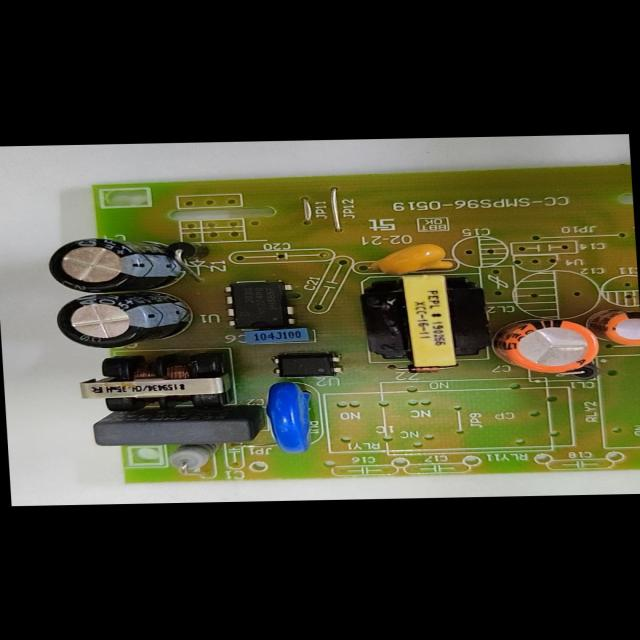Cap1: (485, 314, 602, 378)
Cap2: (598, 309, 640, 350)
Cap3: (46, 288, 208, 352)
Cap4: (38, 233, 206, 293)
MOSFET: (219, 275, 299, 331)
Mov: (260, 379, 330, 457)
Resistor: (167, 446, 216, 472)
Transformer: (356, 271, 494, 374), (66, 348, 240, 416)
